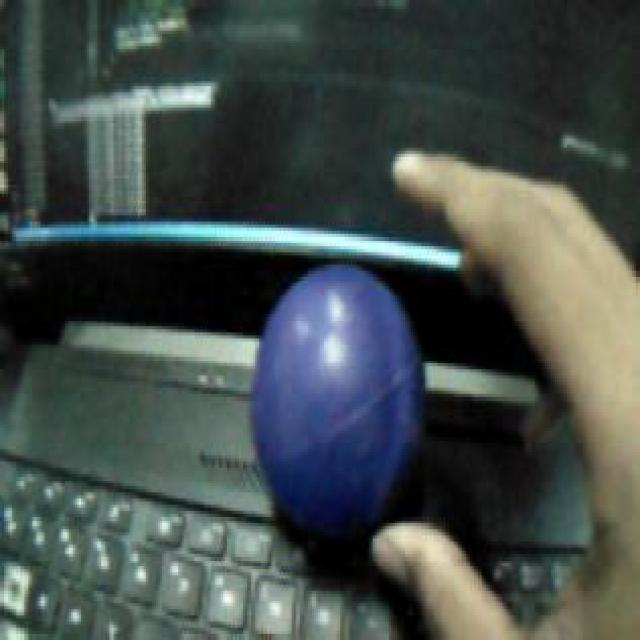BallPurple: (250, 264, 425, 538)
